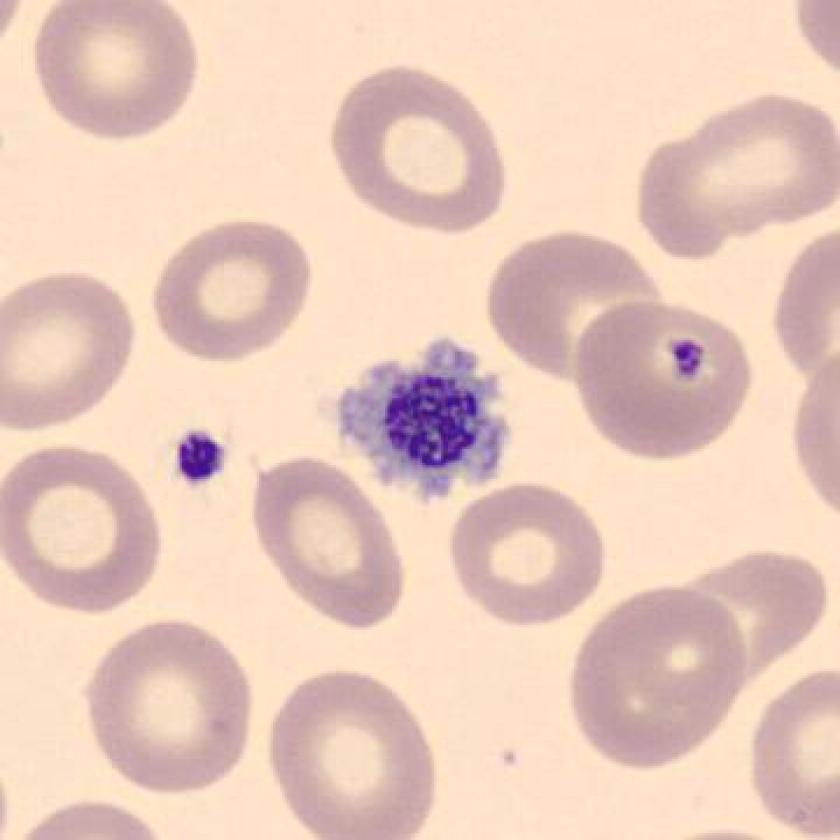platelets: (325, 337, 519, 506), (167, 425, 232, 492), (666, 332, 722, 390)
